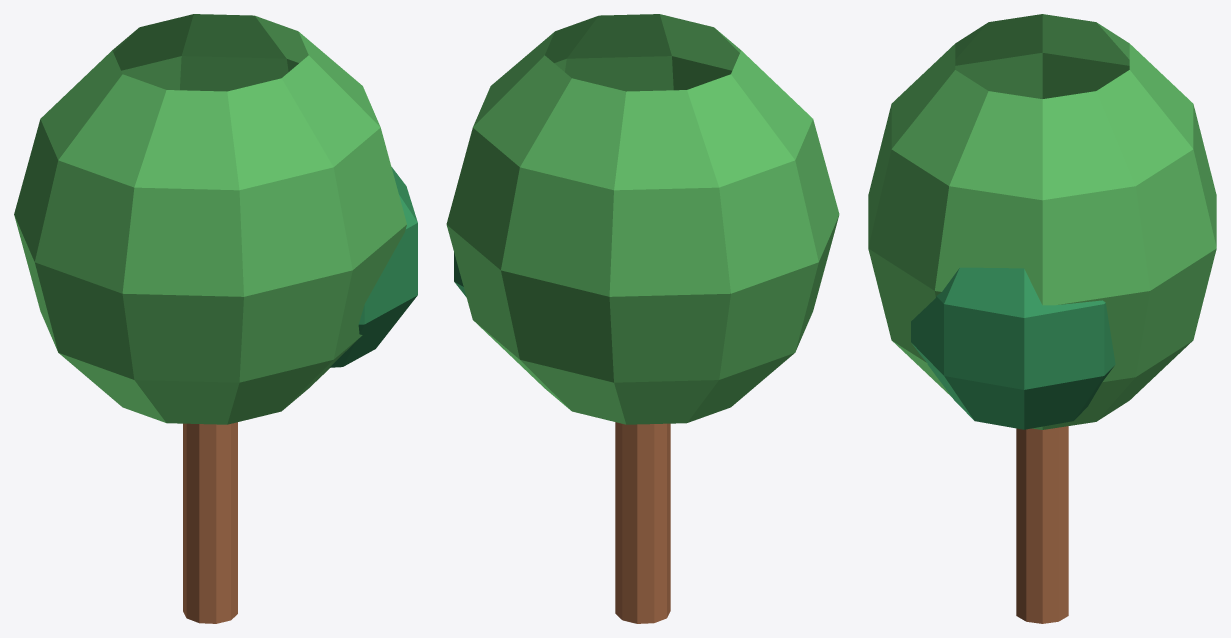
Rendered from 13_tree_round.obj.
3 renders of one model, left to right at view 1: azimuth 30°, elevation 25°; view 2: azimuth 150°, elevation 25°; view 3: azimuth 270°, elevation 25°, orthographic.
Visible parts, largest first — view 1: part_1, part_0, part_2; view 2: part_1, part_0; view 3: part_1, part_2, part_0.
Part boxes in pixels (box(x1,y1,x2,y2)): part_1: box(14, 14, 406, 424); part_0: box(183, 422, 237, 623); part_2: box(330, 167, 417, 367); part_1: box(446, 14, 839, 424); part_0: box(615, 422, 670, 623); part_1: box(868, 14, 1216, 429); part_2: box(911, 267, 1115, 429); part_0: box(1016, 426, 1068, 623).
Bounding box in the file's own units: 2.27 × 3.35 × 1.9.
